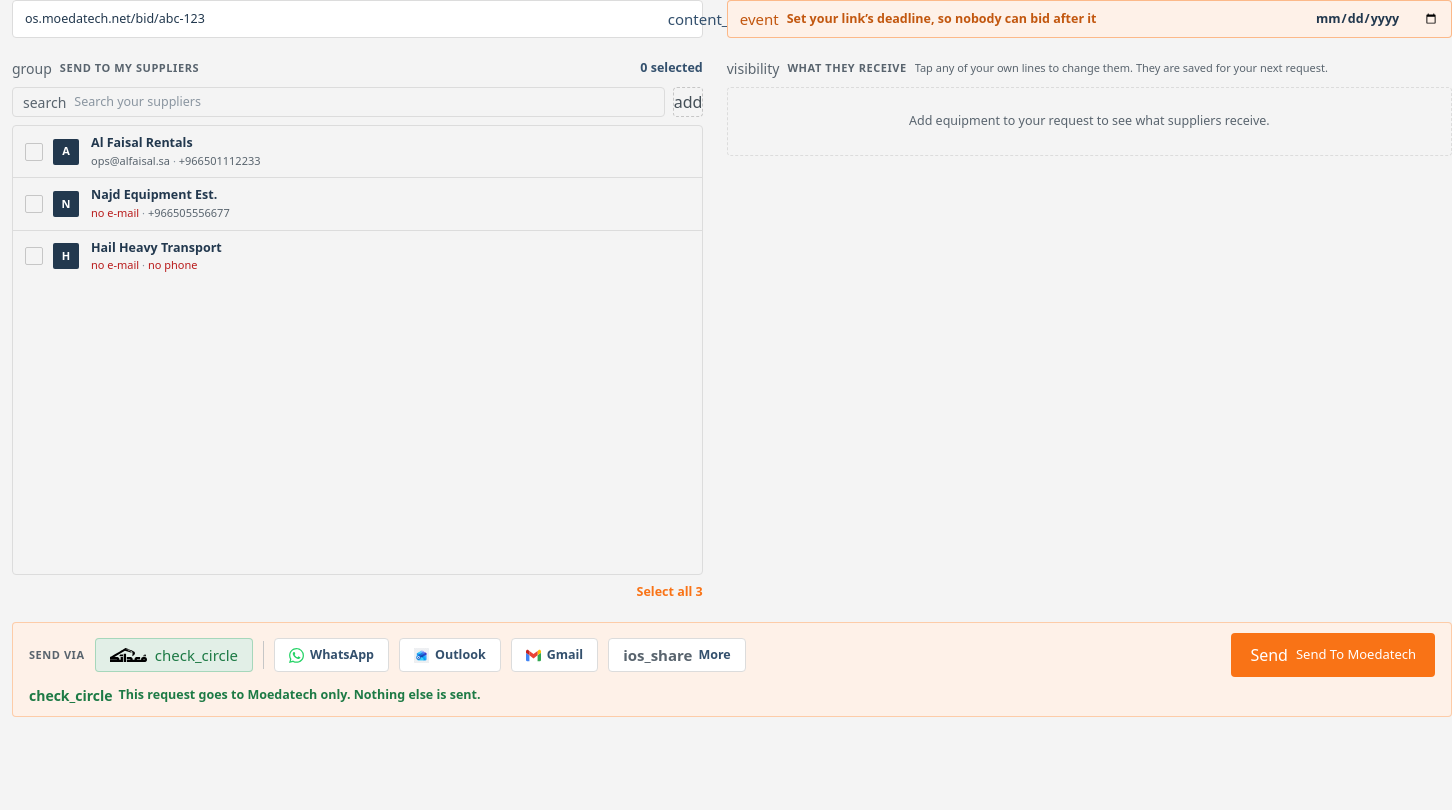
it: finding a supplier › Given nothing matches, Then it says so rather than showing an empty box
Type "zzz" into the field labelled "Search your suppliers".
click(364, 102); type("zzz")  # box x1=74 y1=93 x2=654 y2=111
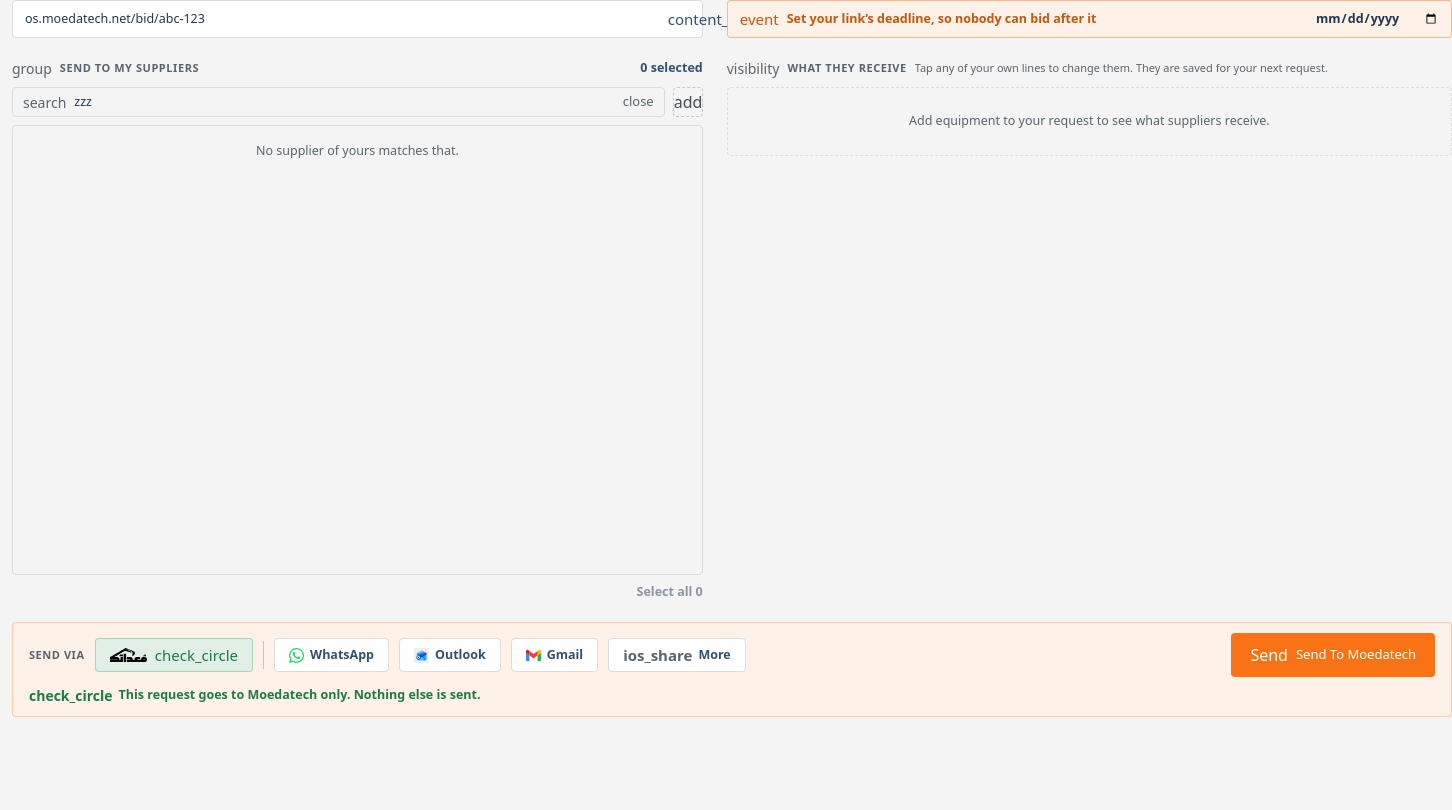
Expected: the text "No supplier of yours matches that." is shown, x1=256 y1=142 x2=459 y2=159
